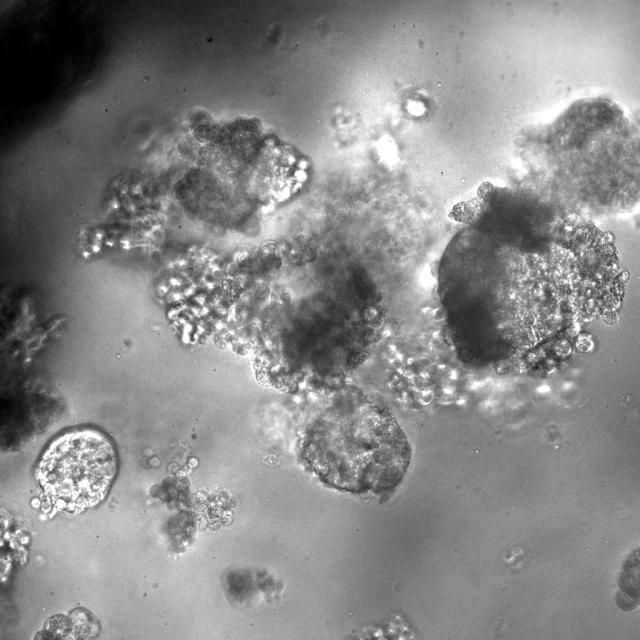organoid: (70, 89, 639, 505), (0, 286, 64, 450), (149, 455, 238, 552), (32, 423, 118, 518), (33, 605, 102, 639), (0, 509, 31, 584), (222, 569, 282, 604), (345, 611, 419, 639), (615, 547, 639, 611), (140, 448, 161, 468)
